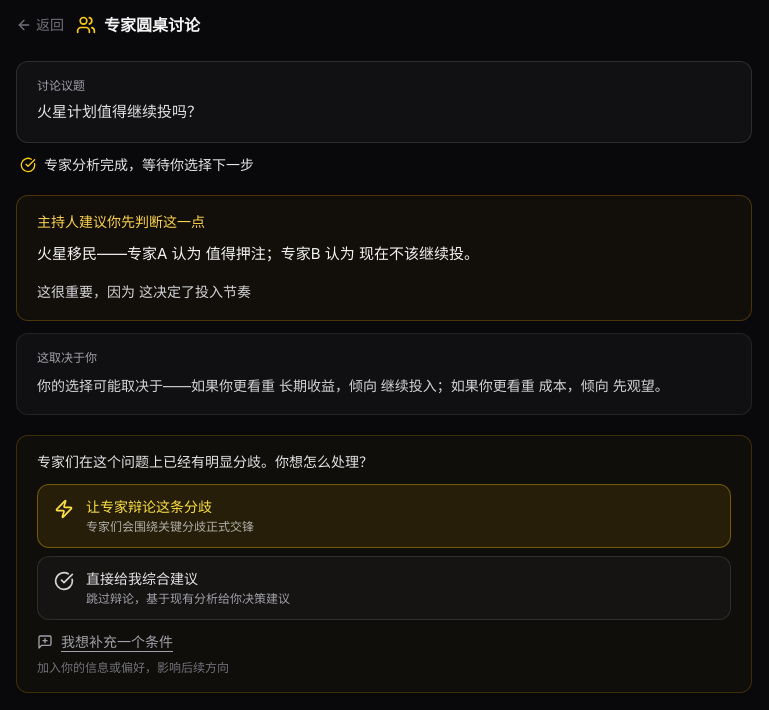
Test: RoundtablePage › interactive resume flows › choice 失败时显式报错并回滚到恢复后的 phase
The width and height of the screenshot is (769, 710).
Click the text "直接给我综合建议" at x=142, y=578, box [86,570,198,587]
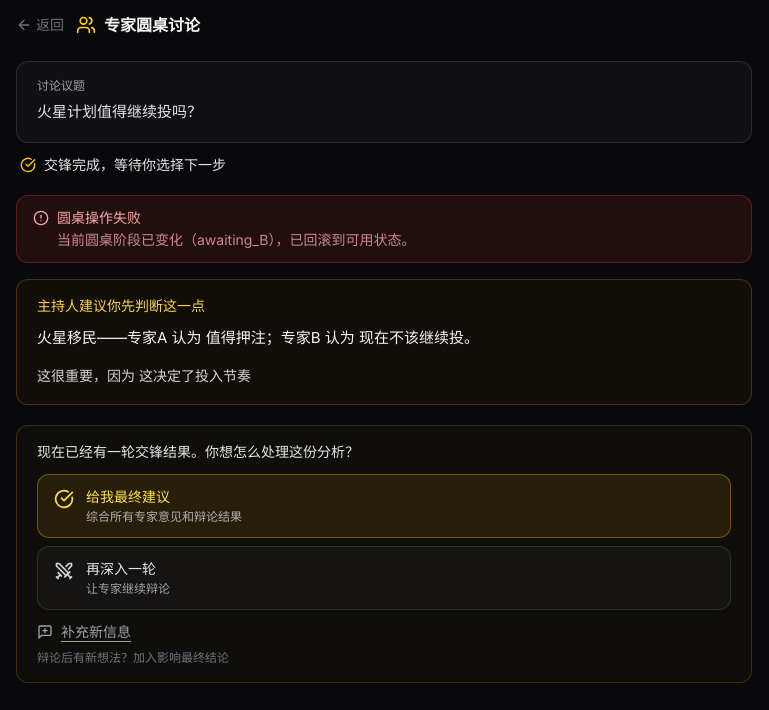
Expected: the text "现在已经有一轮交锋结果。你想怎么处理这份分析？" is shown, [37,443,359,460]
Expected: the text "给我最终建议" is shown, [86,488,170,505]
Expected: the text "再深入一轮" is shown, [86,560,156,577]
